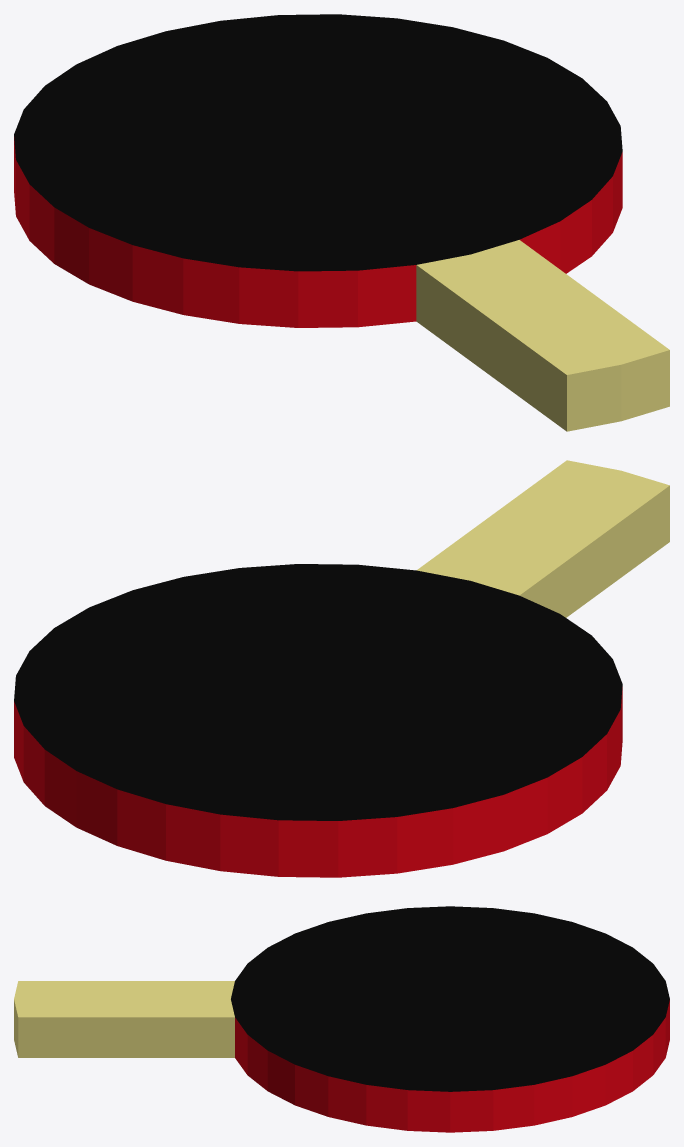
File: paleta de pin pong.fbx
3 views of the same model, one above another, from view 1: azimuth 30°, elevation 25°; view 2: azimuth 150°, elevation 25°; view 3: azimuth 270°, elevation 25° (orthographic). The views are drawn at different scales.
Parts seen in each view (by area): view 1: Paleta; view 2: Paleta; view 3: Paleta.
Part boxes in pixels (x1=…): Paleta: x1=14, y1=14, x2=669, y2=431; Paleta: x1=14, y1=460, x2=669, y2=877; Paleta: x1=14, y1=906, x2=669, y2=1132.
Bounding box in the file's own units: 200 × 20.48 × 299.
